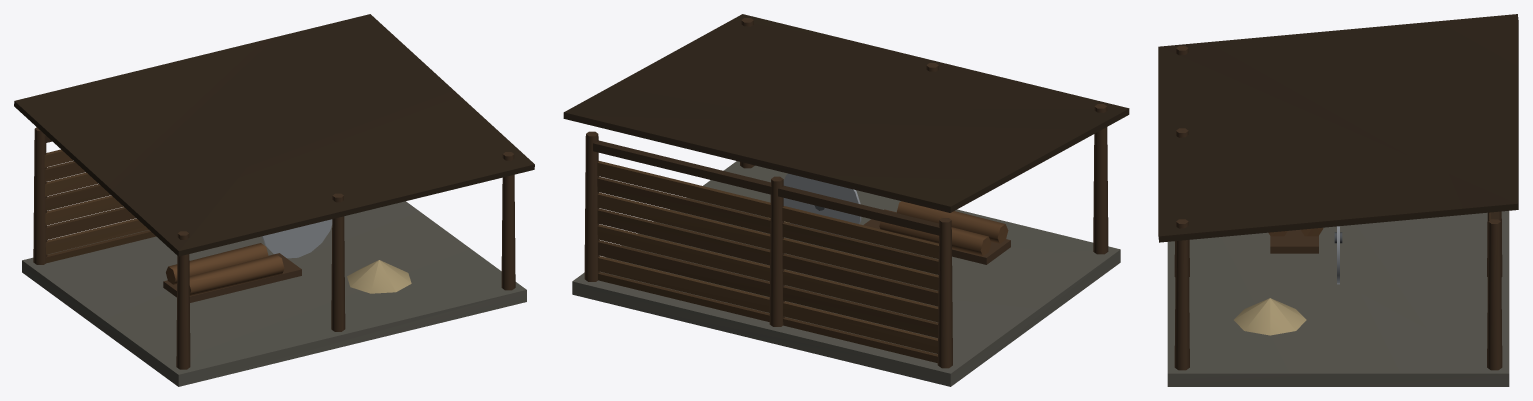
The model's file is sawmill_a.glb.
3 views of the same model, side by side, from view 1: azimuth 30°, elevation 25°; view 2: azimuth 150°, elevation 25°; view 3: azimuth 270°, elevation 25° (orthographic). The views are drawn at different scales.
Visible parts, largest first — view 1: sawmill_a_timber, sawmill_a_stone, sawmill_a_iron; view 2: sawmill_a_timber, sawmill_a_stone, sawmill_a_iron; view 3: sawmill_a_timber, sawmill_a_stone.
Boxes of the visible parts, x1,y1,x2,y2 form: sawmill_a_timber: (14,14,534,369); sawmill_a_stone: (22,201,526,386); sawmill_a_iron: (262,219,332,258); sawmill_a_timber: (563,14,1129,368); sawmill_a_stone: (572,161,1120,386); sawmill_a_iron: (783,173,861,246); sawmill_a_timber: (1158,14,1518,370); sawmill_a_stone: (1167,211,1509,386).
Bounding box in the file's own units: 9.2 × 4.19 × 7.38.
